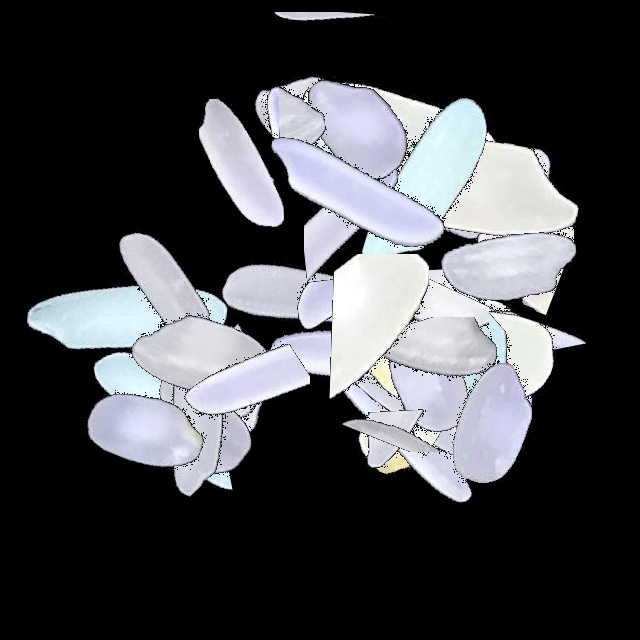Broken: (7, 341, 257, 515), (112, 348, 362, 522), (310, 254, 560, 420), (357, 197, 607, 362), (416, 99, 574, 349), (320, 58, 472, 308), (335, 170, 585, 319), (280, 254, 530, 402), (191, 277, 336, 527), (319, 317, 569, 460), (167, 272, 310, 522), (368, 180, 510, 430), (311, 290, 561, 432), (304, 121, 444, 371), (355, 225, 489, 475), (420, 250, 552, 500), (390, 205, 514, 455), (362, 341, 475, 591), (256, 274, 506, 385), (212, 12, 462, 121), (298, 344, 548, 452), (391, 40, 498, 290), (279, 0, 379, 250), (358, 277, 451, 527), (211, 81, 461, 166)
Full: (318, 264, 568, 514), (0, 191, 250, 441), (83, 265, 333, 515), (199, 0, 449, 250), (208, 0, 458, 250), (117, 36, 367, 286), (356, 296, 606, 546), (276, 13, 526, 263), (168, 172, 418, 422), (38, 168, 288, 418), (390, 90, 640, 340), (358, 60, 608, 310), (300, 60, 550, 310), (282, 299, 532, 549), (229, 0, 479, 250), (277, 276, 527, 526), (66, 295, 316, 545), (253, 224, 503, 474), (325, 231, 575, 481), (233, 69, 483, 319), (301, 251, 551, 501), (385, 141, 635, 391), (368, 299, 618, 549), (82, 236, 332, 486), (20, 303, 270, 553)
